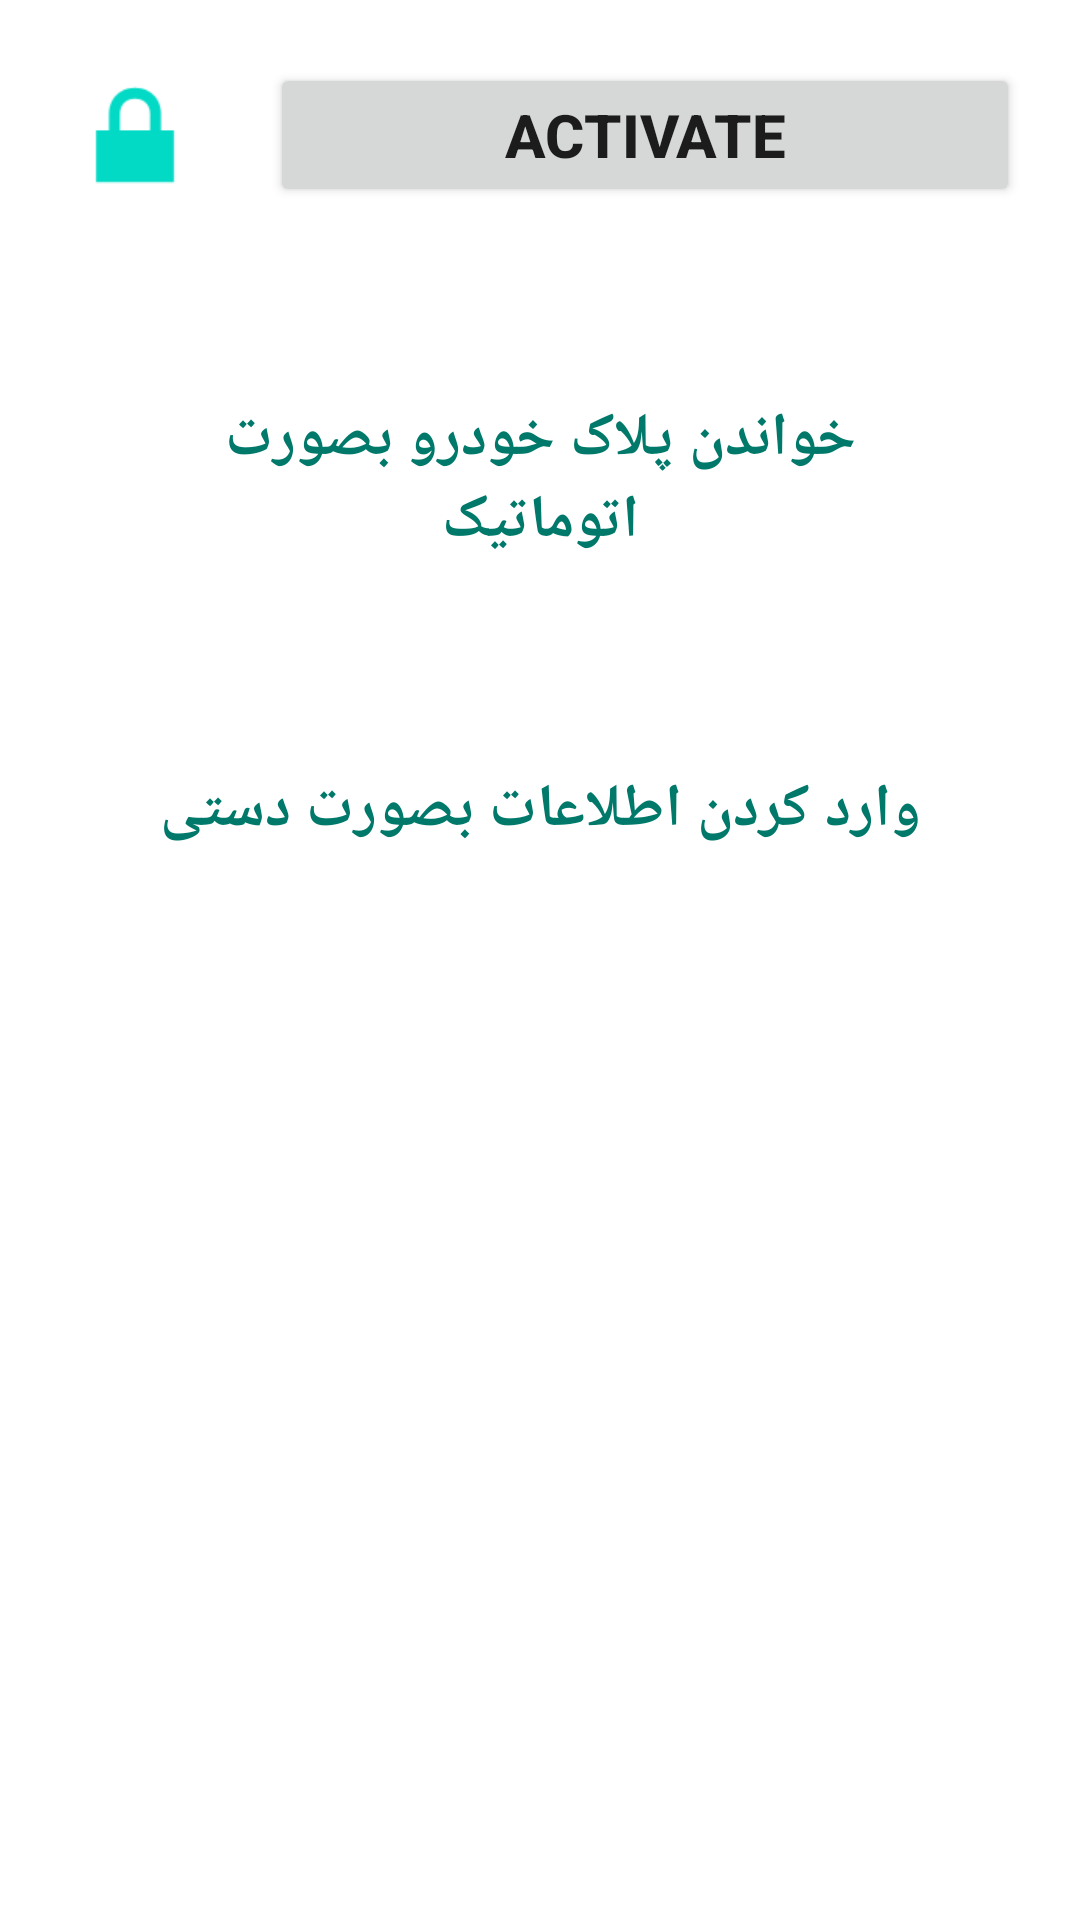

Where icons sit on this 1080x1920 app screen, as detection(x1, y1, x2, y2):
lock: detection(95, 87, 175, 183)
